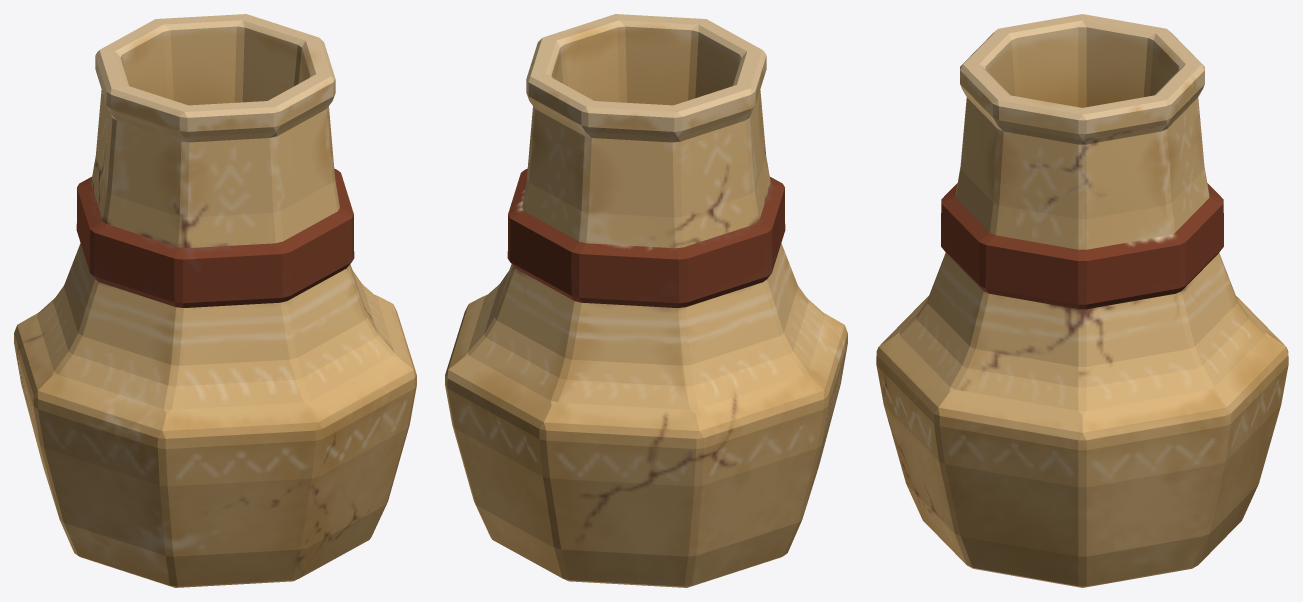
File: vase5.fbx
3 renders of one model, left to right at view 1: azimuth 30°, elevation 25°; view 2: azimuth 150°, elevation 25°; view 3: azimuth 270°, elevation 25°, orthographic.
Visible parts, largest first — view 1: vase5; view 2: vase5; view 3: vase5.
Part boxes in pixels (<box>): vase5: <box>14,14,416,587</box>; vase5: <box>445,14,847,587</box>; vase5: <box>876,14,1288,587</box>.
Bounding box in the file's own units: 32.1 × 39.39 × 32.1.
